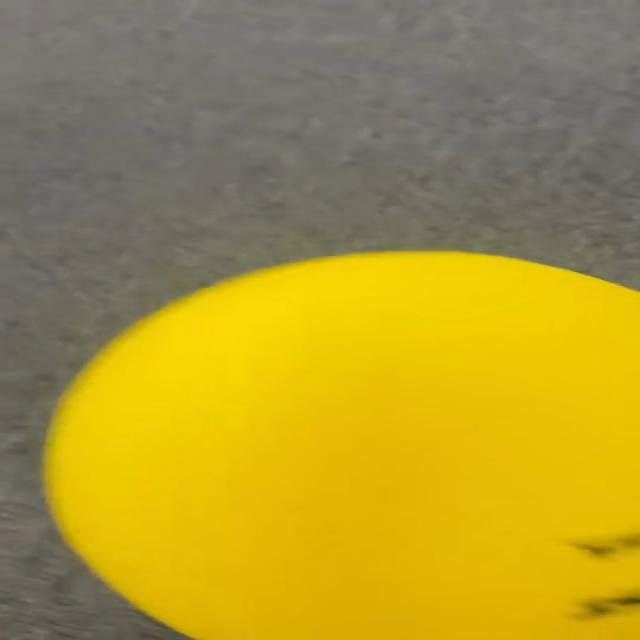Fuels: (46, 250, 640, 636)
